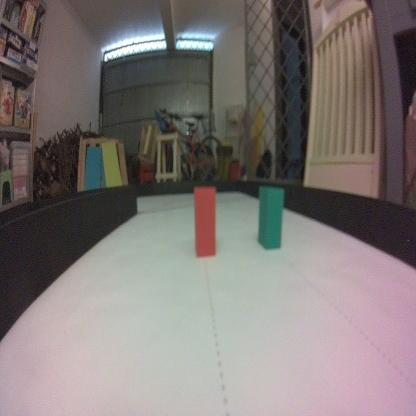green: (258, 187, 282, 251)
red: (194, 184, 218, 259)
